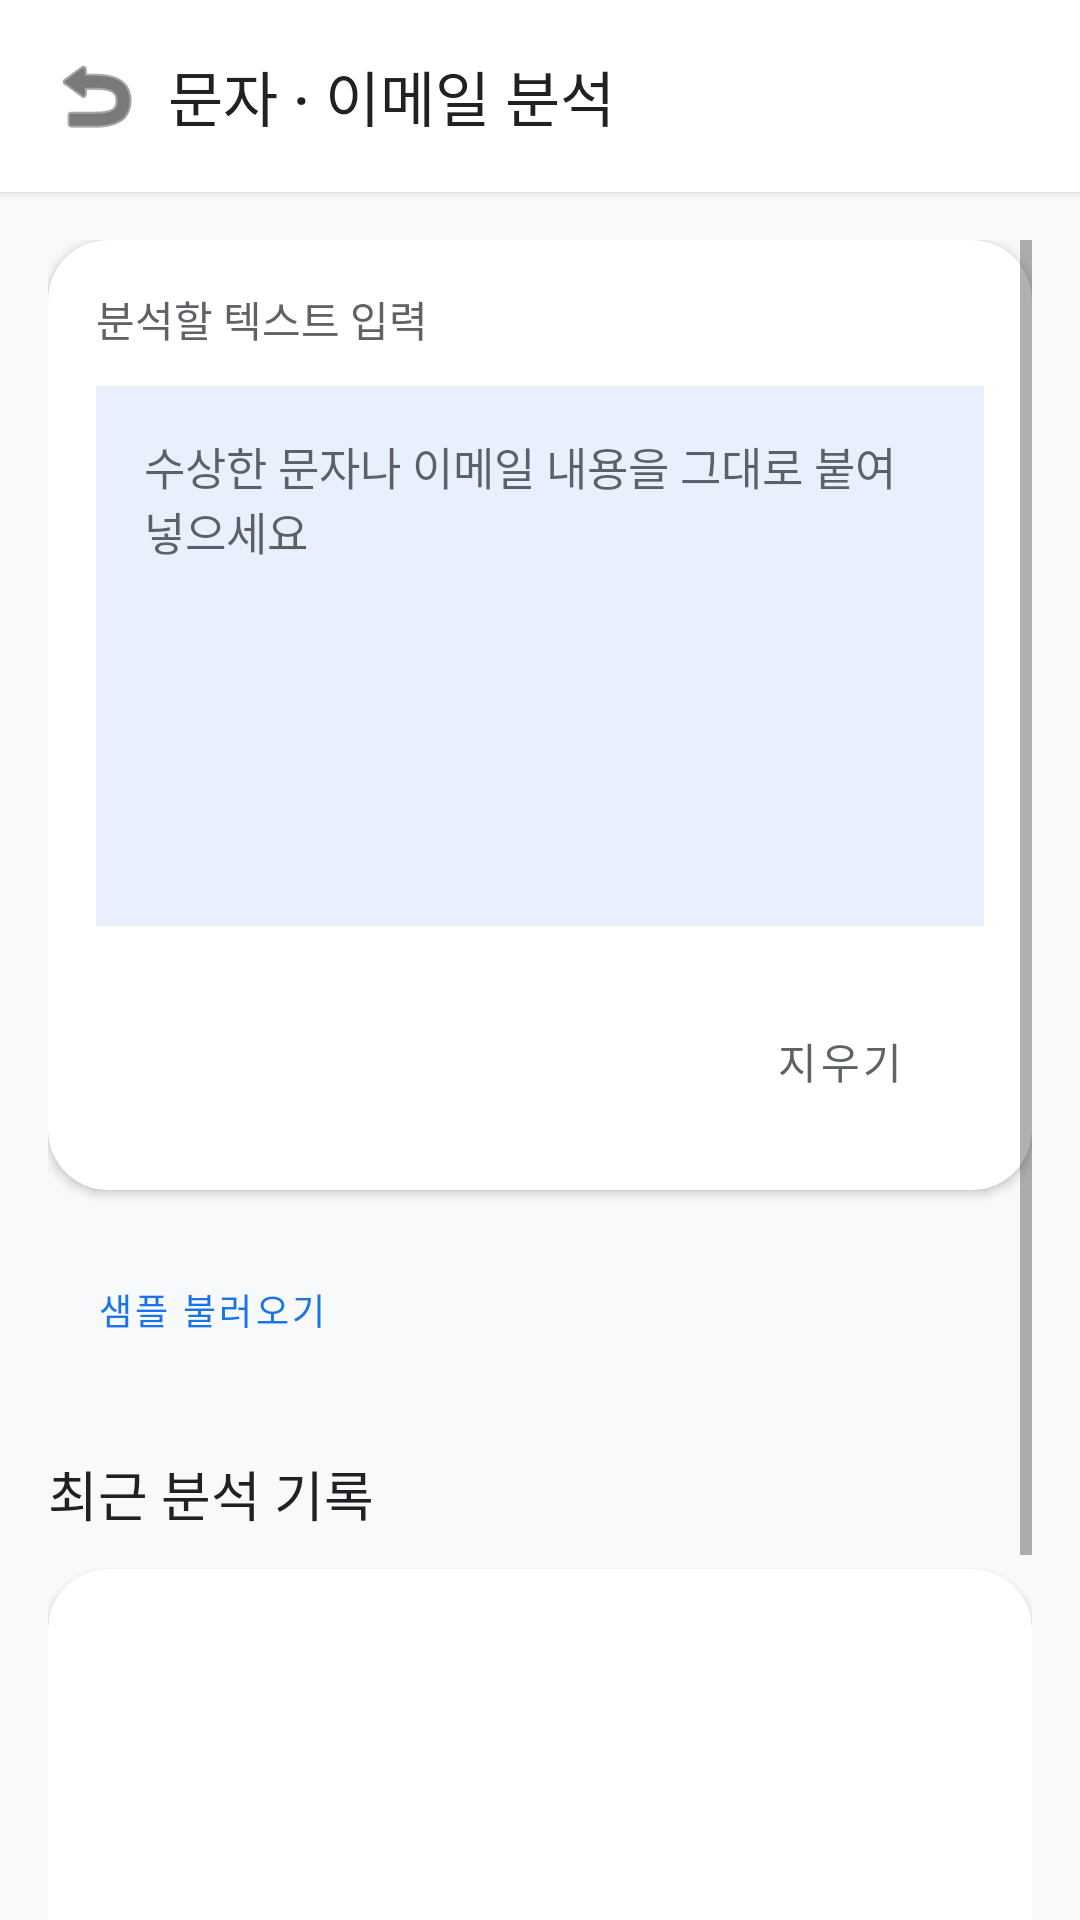

Point at icon controls on the screen. Image size 1080px×1920px, points as (x=x, y=y).
이동: (x=97, y=96)
